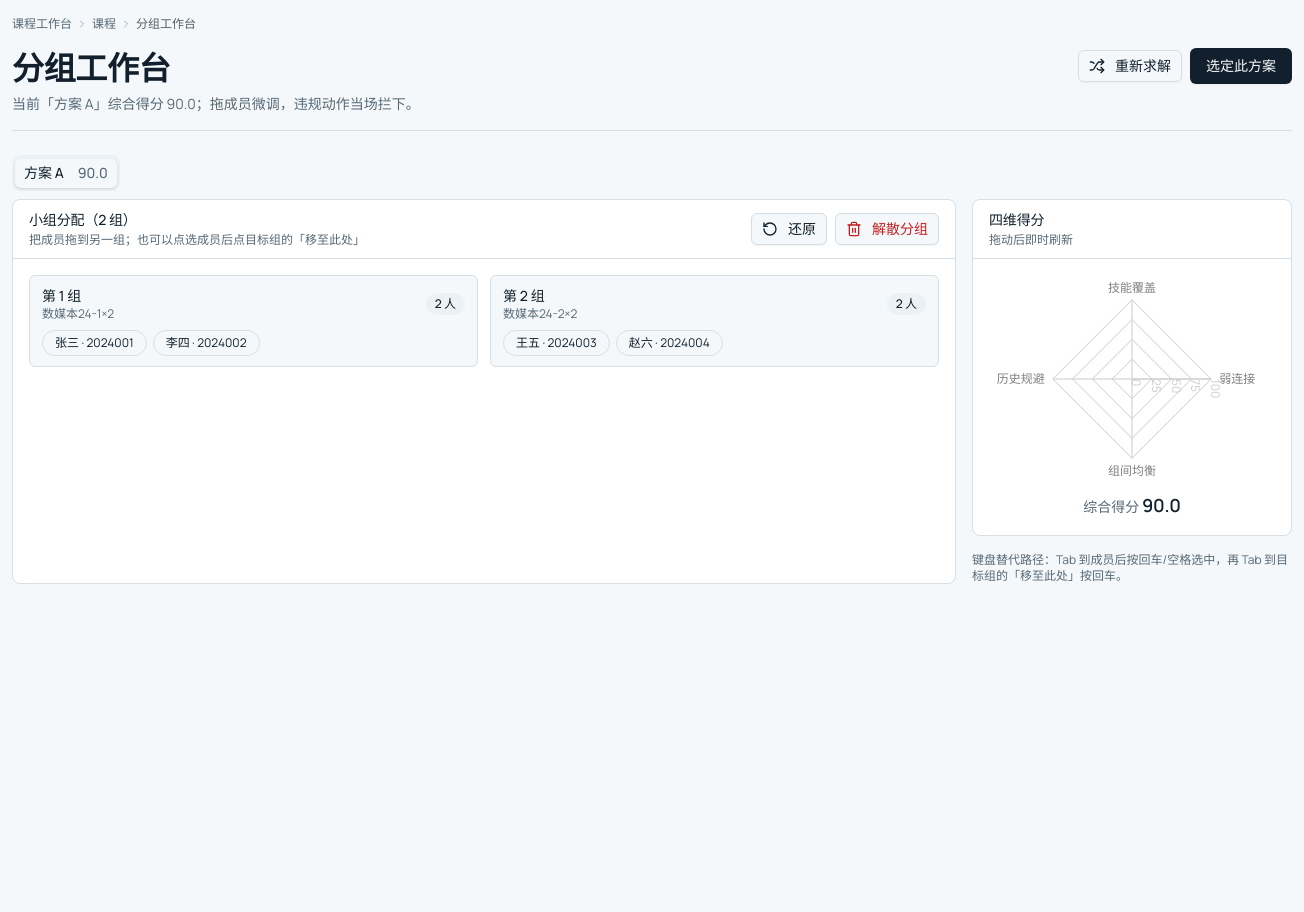
it: 分组工作台：移动失败必须回滚且说话 › 预演 400 被拒时显示违规原因，卡片与面板分数都不动
expect the tab "方案 A 90.0" is shown: met, box [15,158,117,188]
Click the button "李四 · 2024002".
click(206, 343)  # box [153,330,260,356]
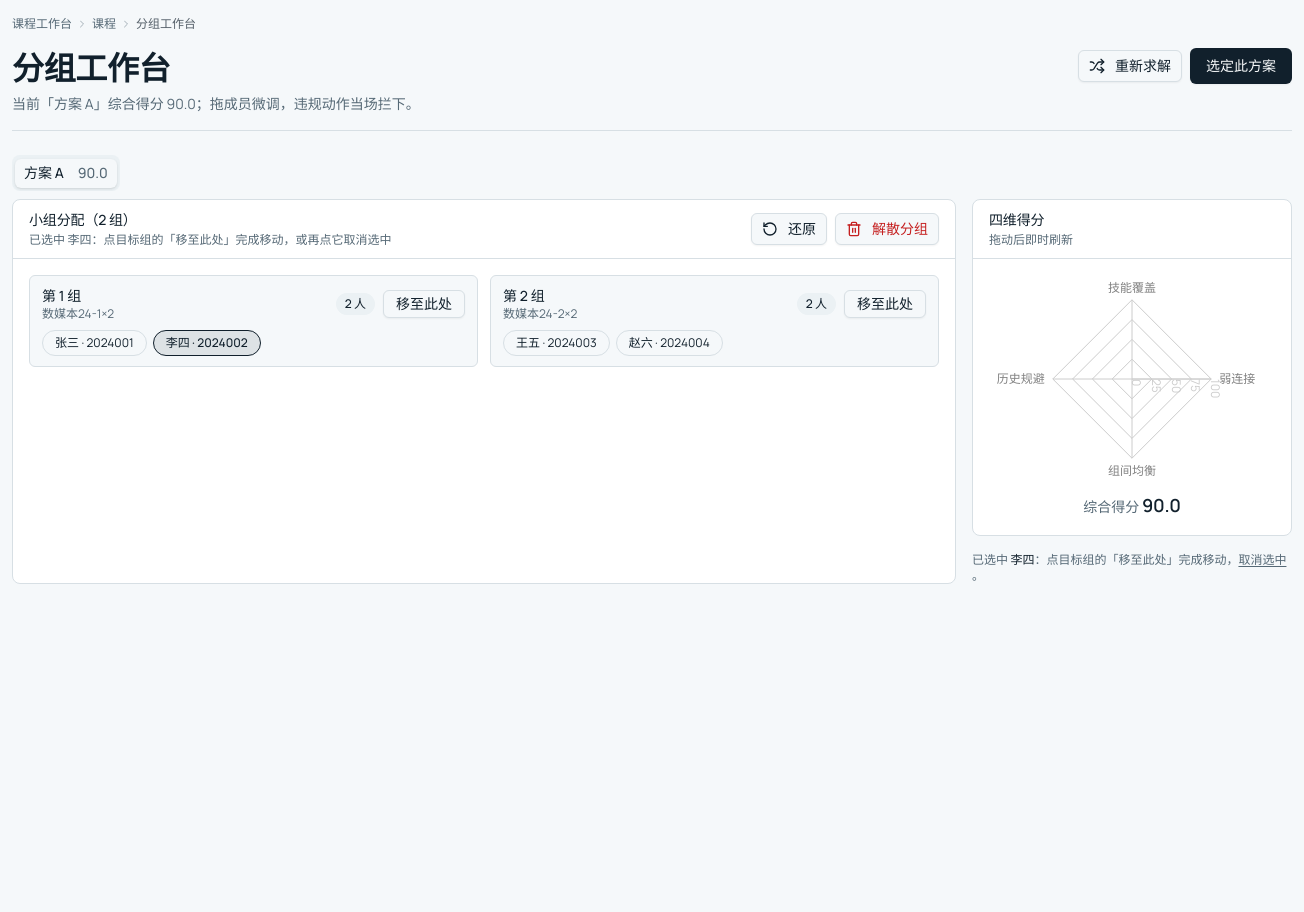
Click the button with aria-label "把 李四 移到第 2 组".
click(885, 304)  # box [844,290,926,318]
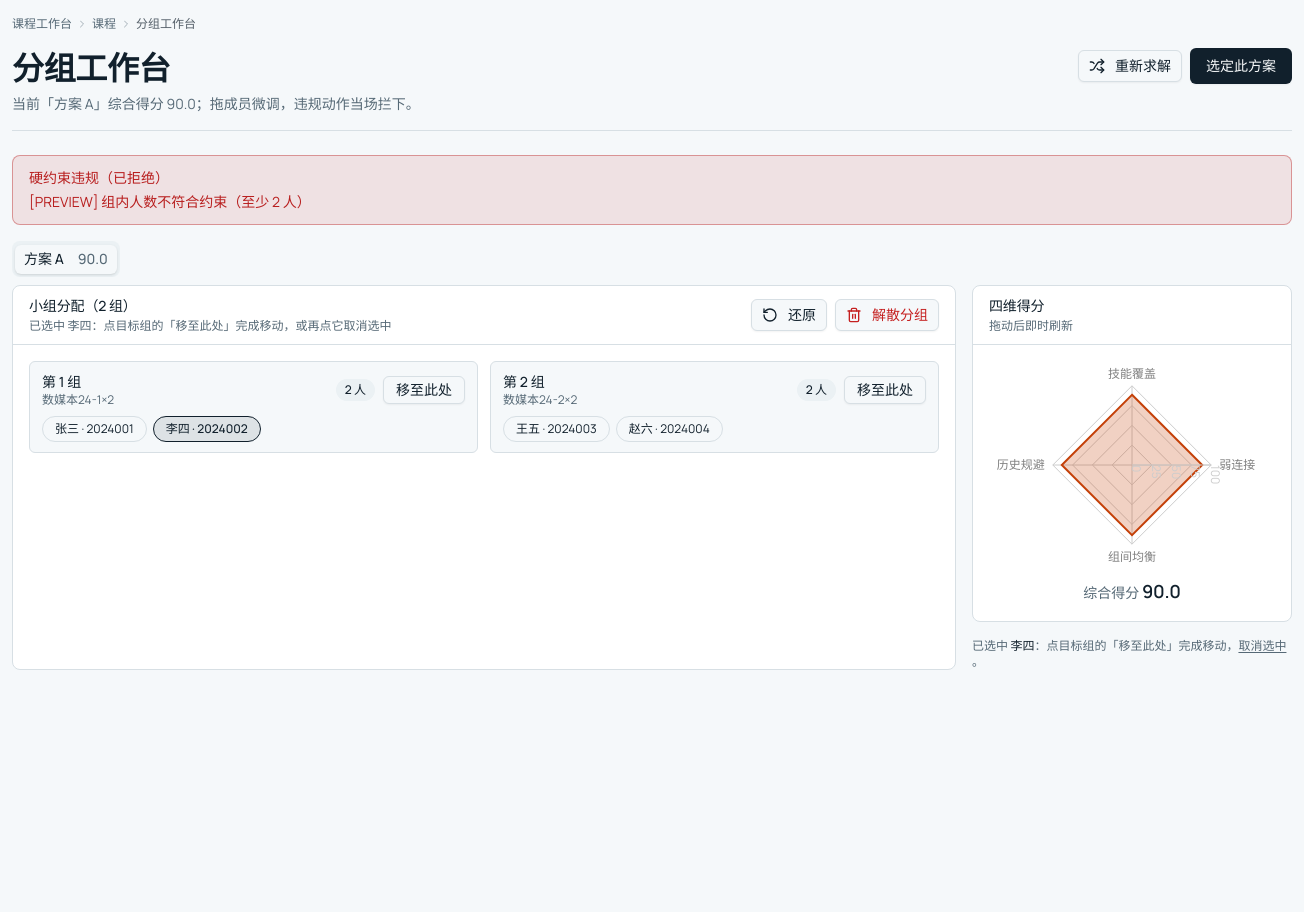
expect the text "当前「方案 A」综合得分 90.0；拖成员微调，违规动作当场拦下。" is shown: met, box [12,94,420,114]
expect the list item shows "组内人数不符合约束": met, box [101,192,311,211]
expect the list item shows "[PREVIEW]": met, box [35,192,93,211]
